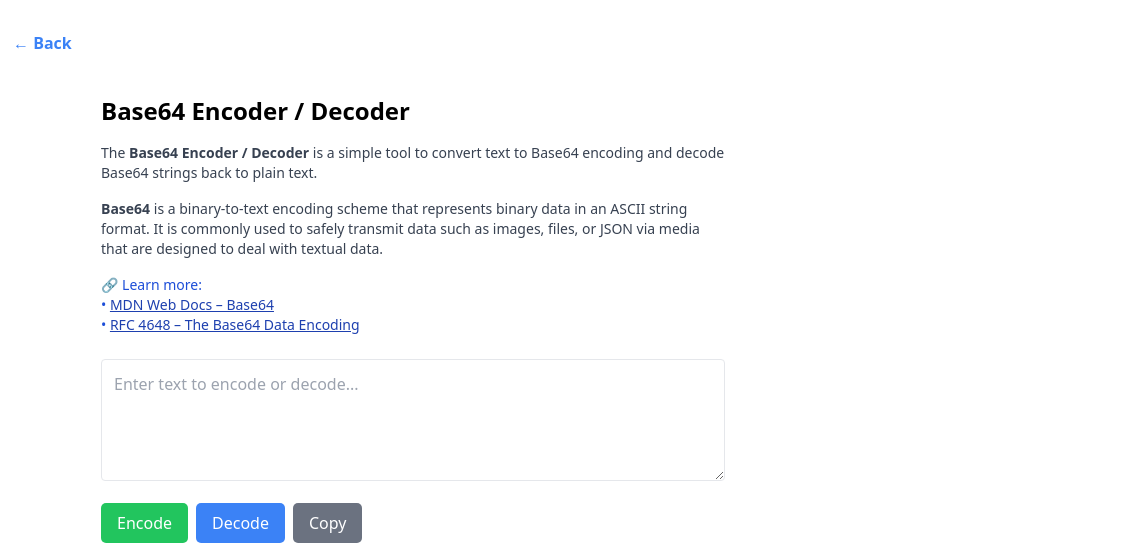
Test case: Base64Encoder › shows error on invalid base64 input
Step 1. Type "@@@" into the text box with placeholder "Enter text to encode or decode..." → (413, 420), box 101,359 -> 725,481
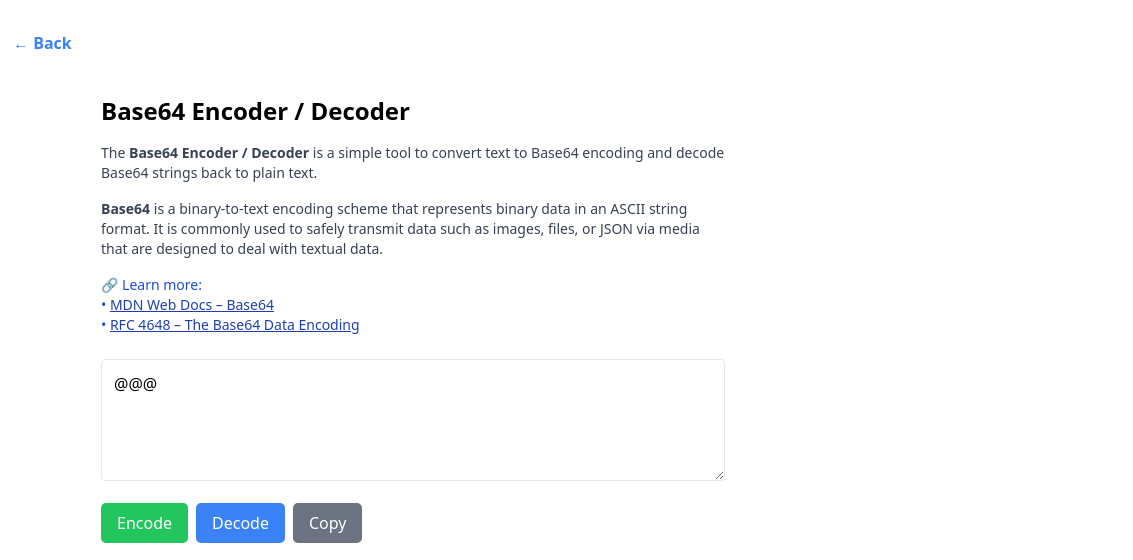
Step 2. Click the button with class "btn-blue" → (240, 523), box 196,503 -> 285,543
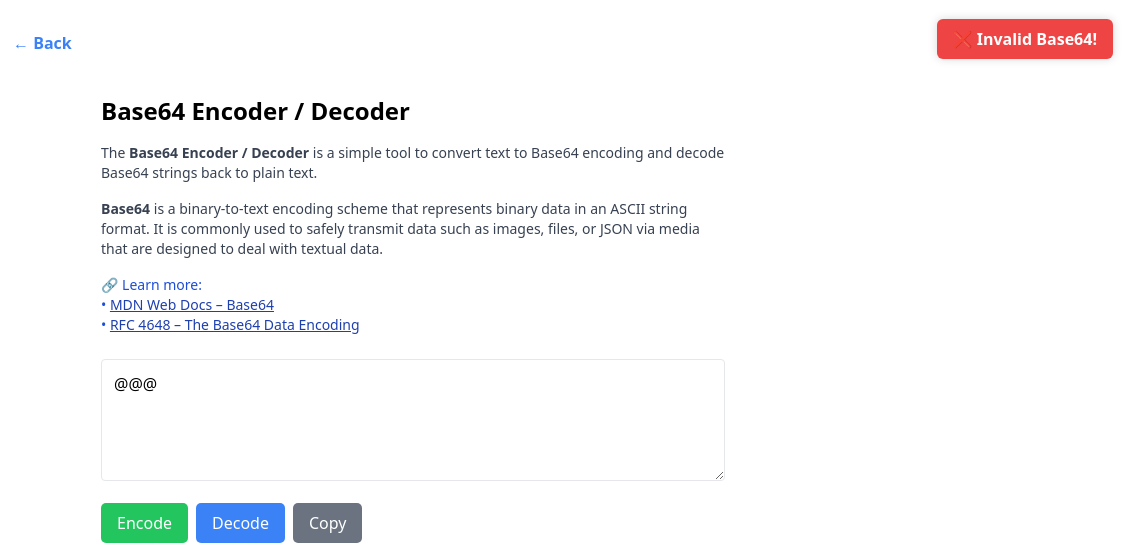
Check: the text "Invalid Base64!" is shown, box 953,28 -> 1097,50
